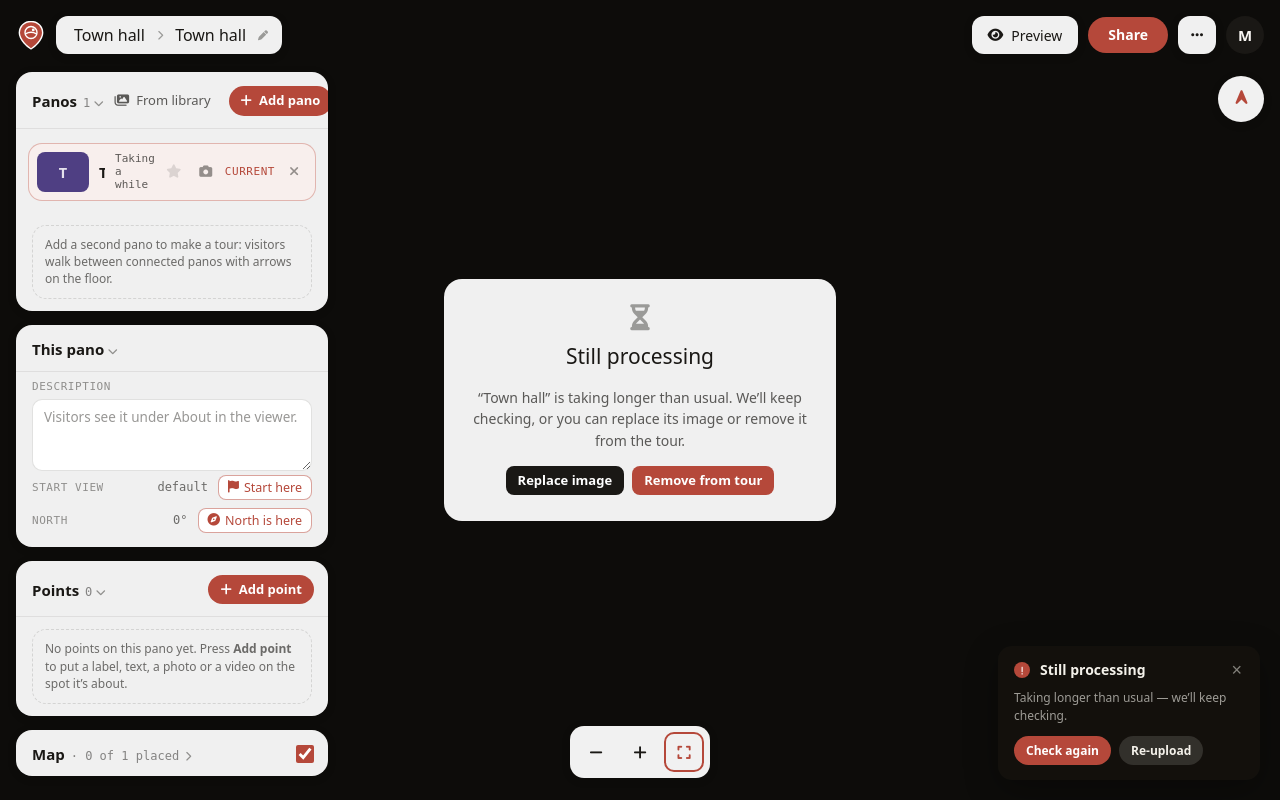
Test: re-upload without the file in memory › a resumed upload that times out re-uploads a re-picked file over the same pano
The image size is (1280, 800).
Click the button "Re-upload".
click(1161, 750)  # box [1119, 736, 1203, 765]
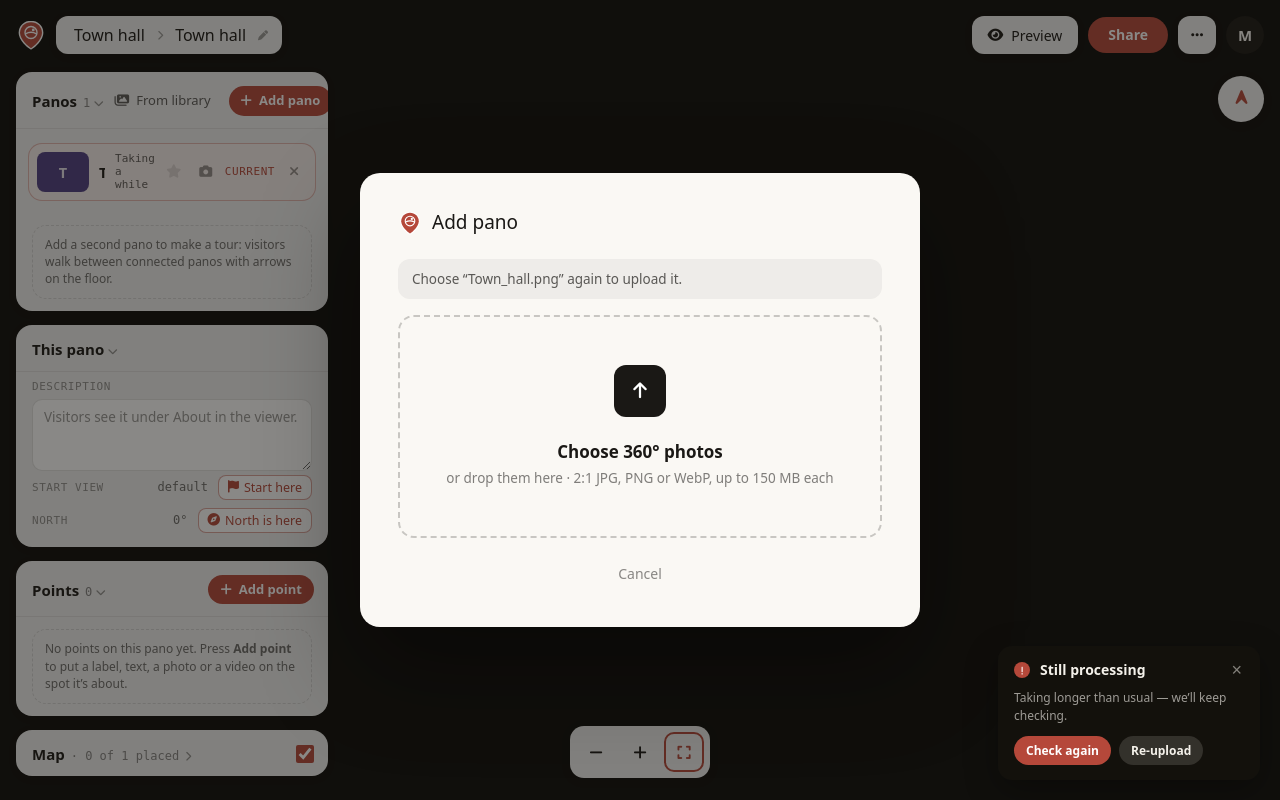
Expected: the dialog "Add pano" shows "Choose “Town_hall.png” again to upload it.", [412, 270, 682, 288]
